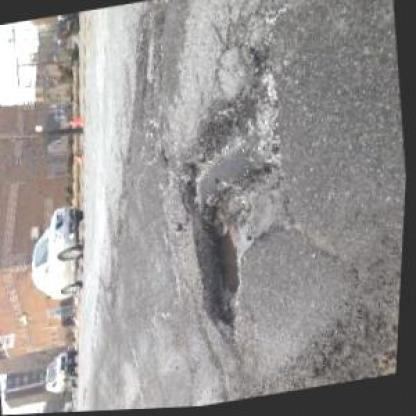pothole: (162, 70, 309, 336), (132, 26, 173, 98)
